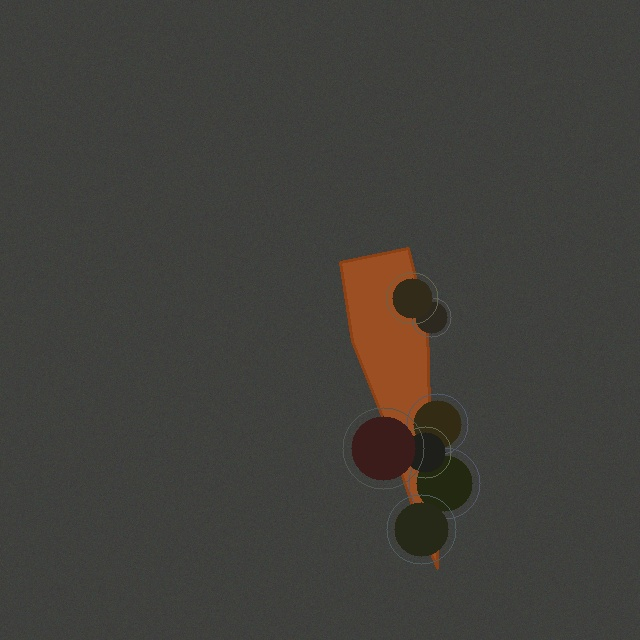Rotten_Carrot: (332, 240, 445, 576)
